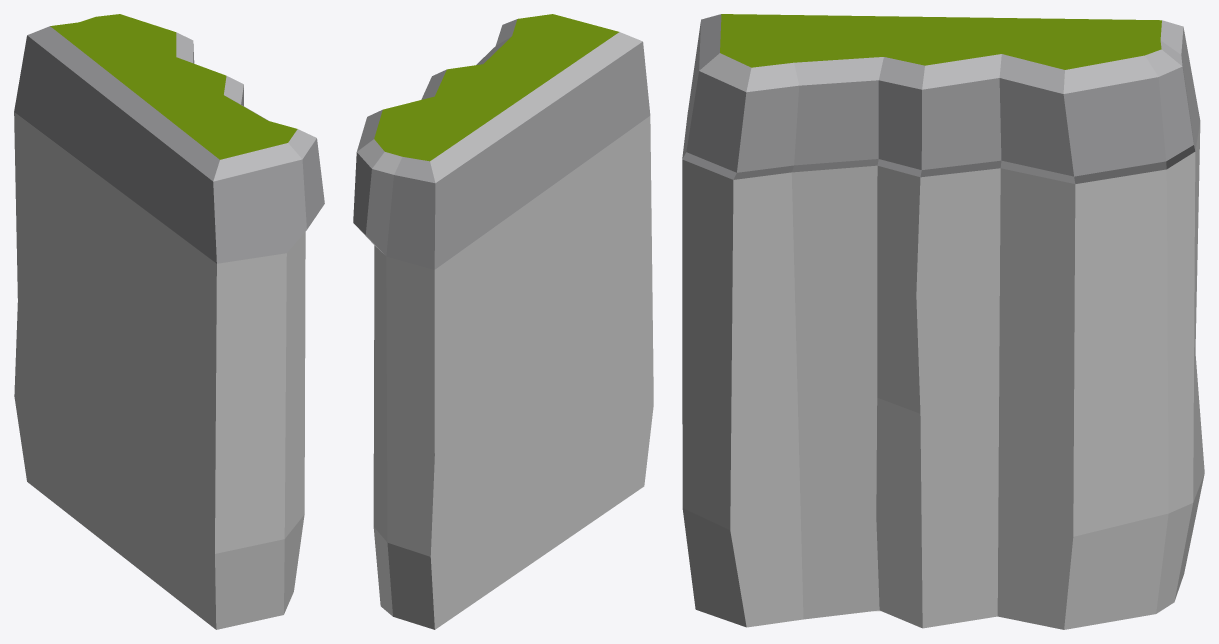
The model's file is Cliff1FlatShaded.fbx.
3 views of the same model, side by side, from view 1: azimuth 30°, elevation 25°; view 2: azimuth 150°, elevation 25°; view 3: azimuth 270°, elevation 25° (orthographic). The views are drawn at different scales.
Visible parts, largest first — view 1: Plane.001; view 2: Plane.001; view 3: Plane.001.
Boxes of the visible parts, bbox=[...] form: Plane.001: bbox=[14, 14, 324, 629]; Plane.001: bbox=[353, 14, 653, 629]; Plane.001: bbox=[682, 14, 1204, 629].
Size of the model in its own units: 582 by 1917 by 1597.
